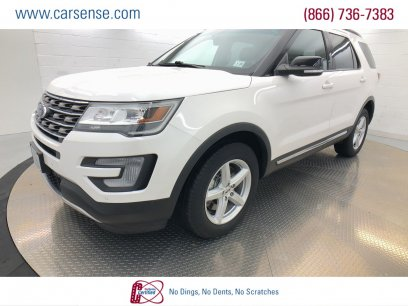Ford Explorer: (30, 24, 380, 241)
